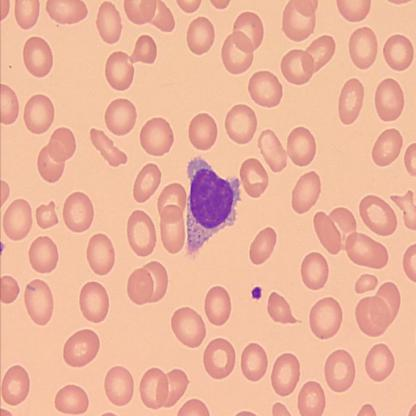Atypical lymphocyte: (185, 155, 243, 254)
